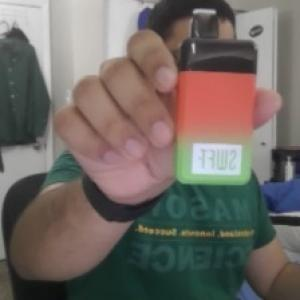Swift-E-Ciggirate: (172, 8, 262, 189)
